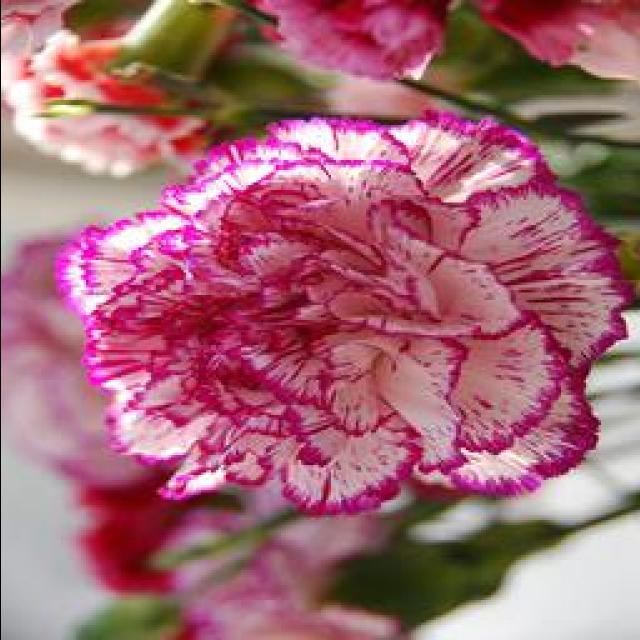carnation: (50, 110, 632, 526)
